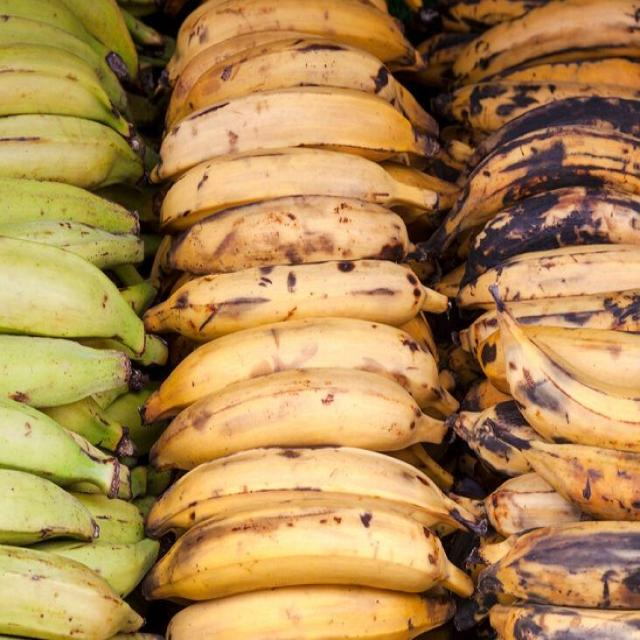Banana: (144, 447, 484, 599), (142, 318, 441, 422), (150, 368, 446, 469), (151, 87, 438, 182), (160, 148, 439, 231), (144, 260, 426, 342), (169, 195, 410, 274)
